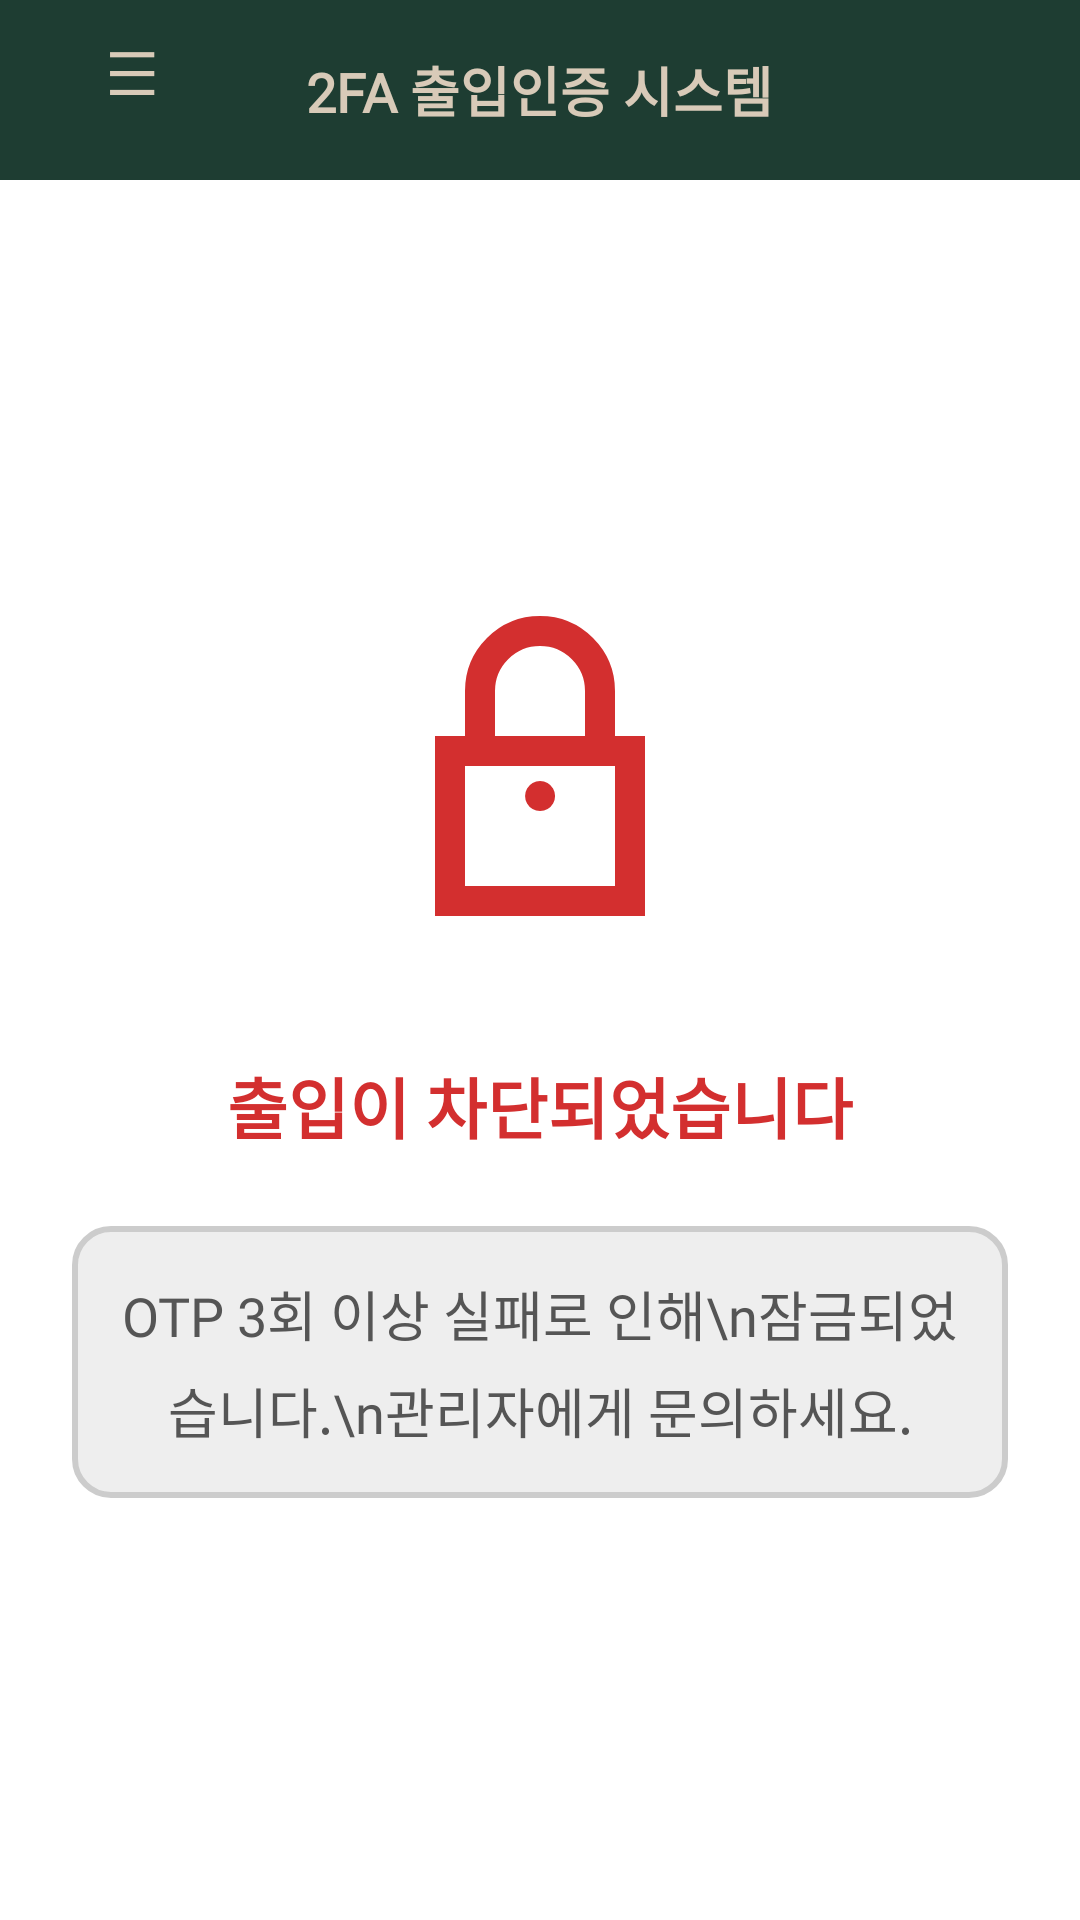

Where icons sit on this 1080x1920 app screen, as bbox=(x1, y1, x2, y2):
자물쇠 아이콘: bbox=(435, 616, 645, 916)
